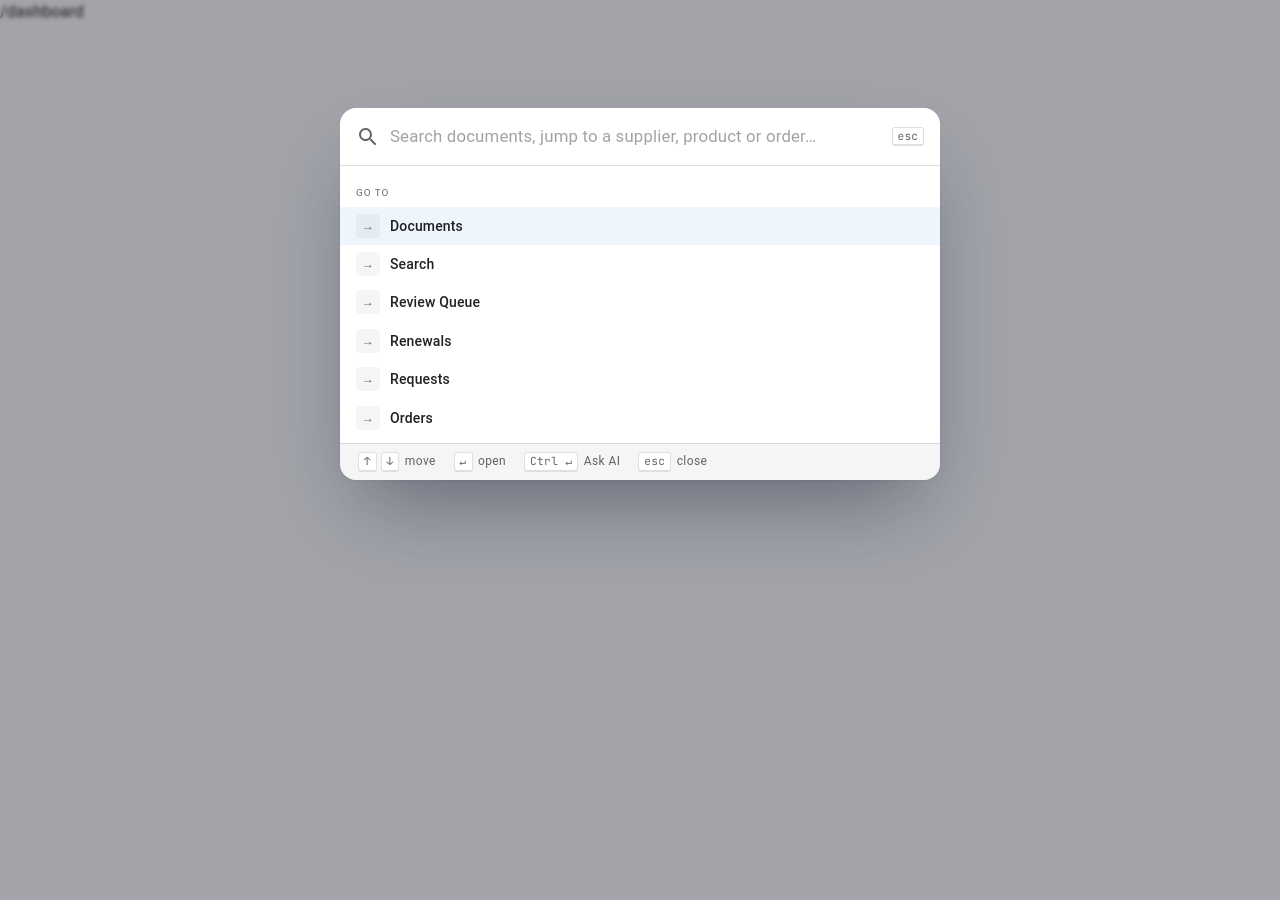
Test case: CommandPalette (⌘K / Ctrl-K) › Ctrl+Enter hands the words to the AI
Type "what came in last week" into the field with test id "palette-input" at (636, 137), box x1=390 y1=120 x2=882 y2=153
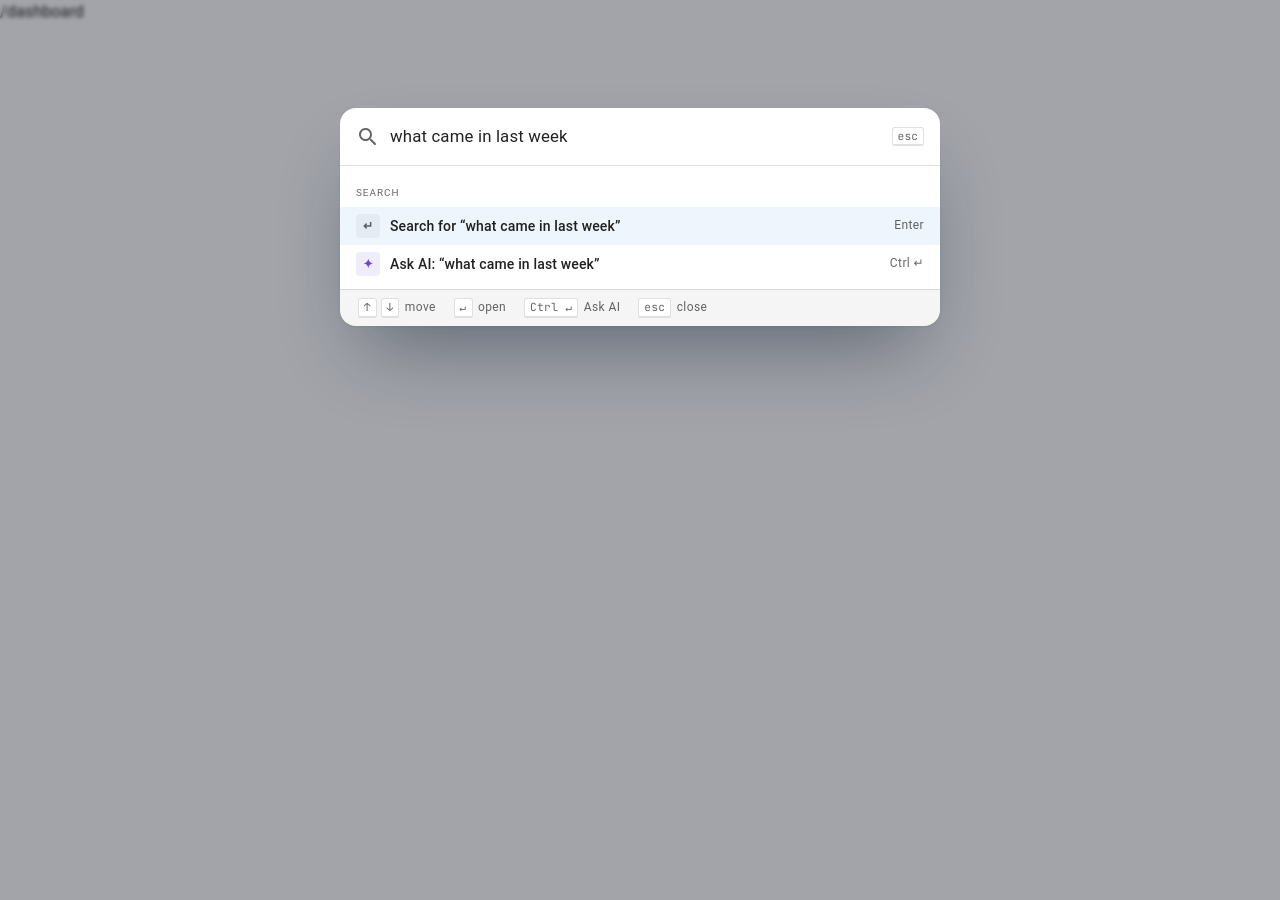
Type keys "{Control>}{Enter}{/Control}"
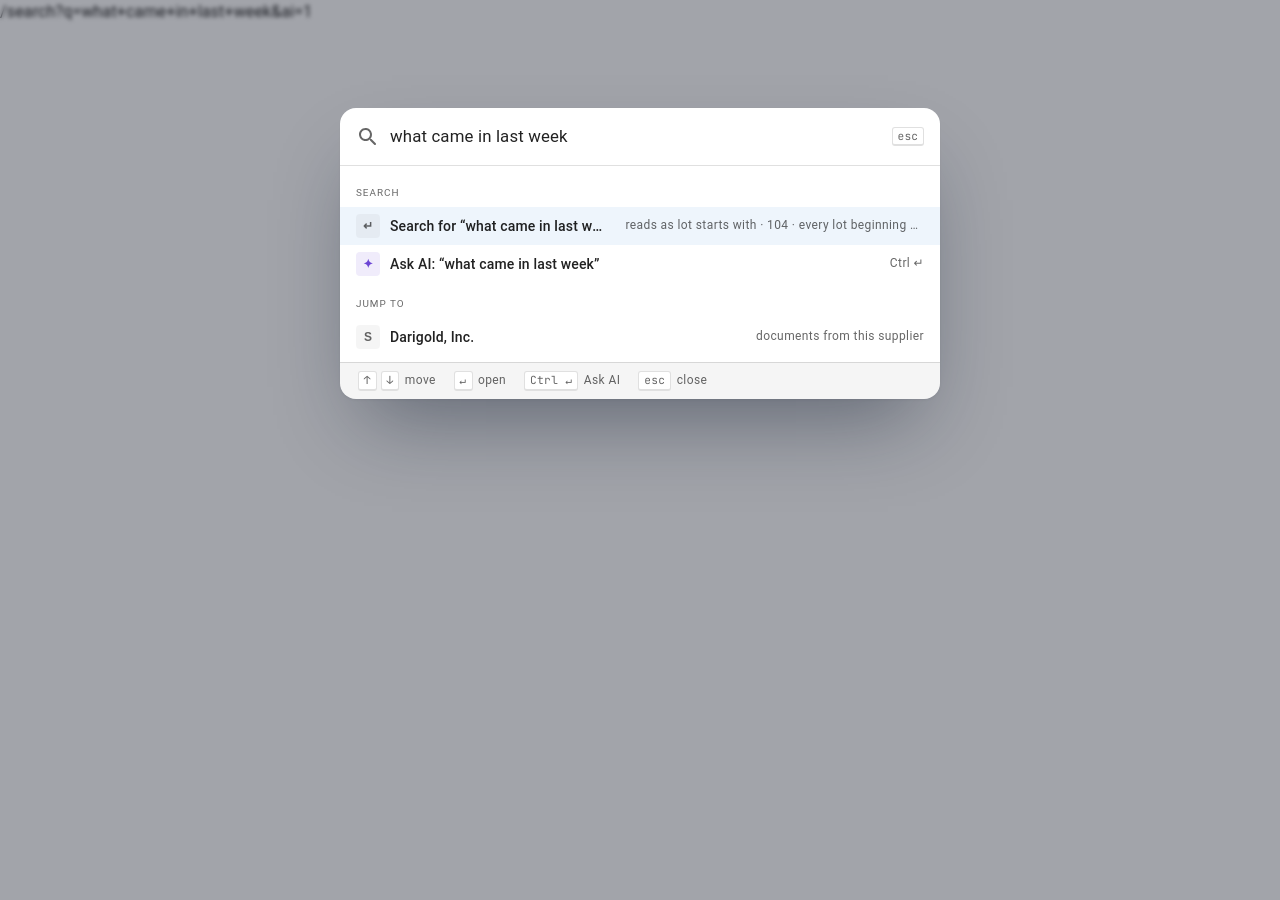
Expected: the text with test id "where" shows "ai=1", x1=0 y1=2 x2=312 y2=21
